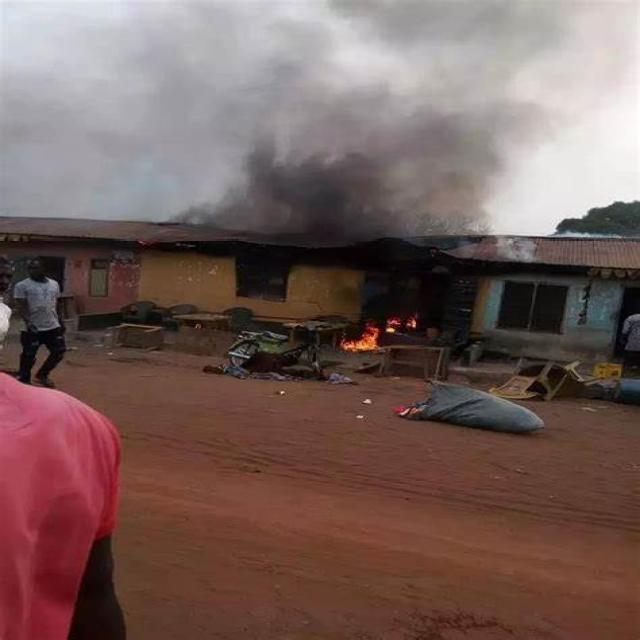fire: (336, 327, 385, 351)
smoke: (266, 75, 493, 232)
